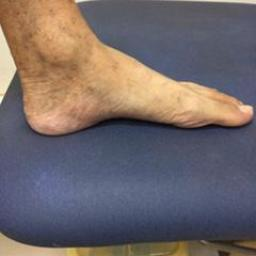Medial View -Left Foot-: (1, 29, 255, 147)
